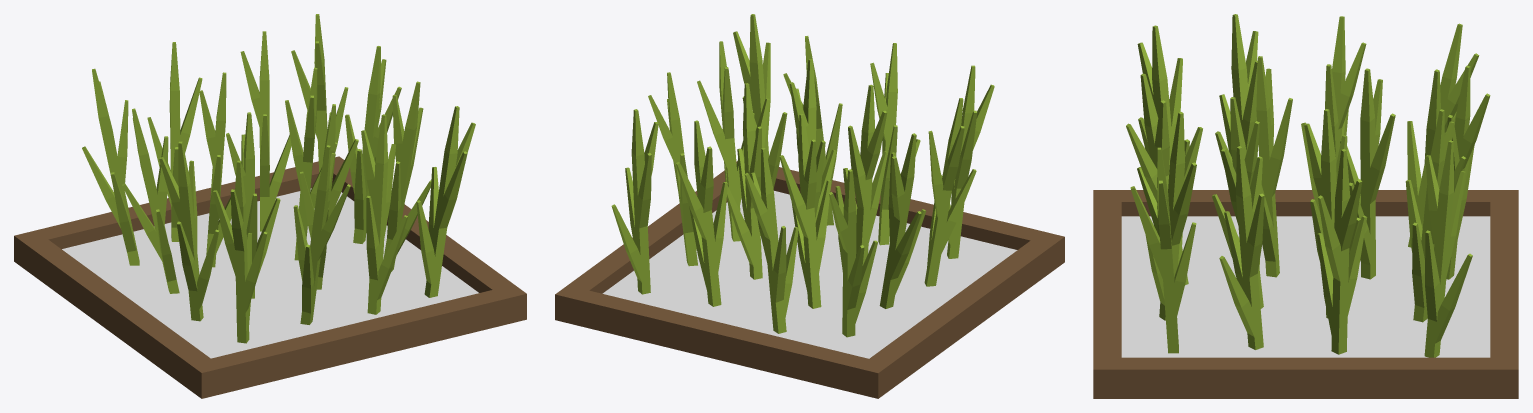
3 views of the same model, side by side, from view 1: azimuth 30°, elevation 25°; view 2: azimuth 150°, elevation 25°; view 3: azimuth 270°, elevation 25° (orthographic). The views are drawn at different scales.
Parts seen in each view (by area): view 1: wheat3; view 2: wheat3; view 3: wheat3.
Part boxes in pixels (box(x1,y1,x2,y2)): wheat3: box(14, 14, 526, 398); wheat3: box(555, 14, 1064, 398); wheat3: box(1093, 14, 1518, 398).
Size of the model in its own units: 440 by 262 by 440.
